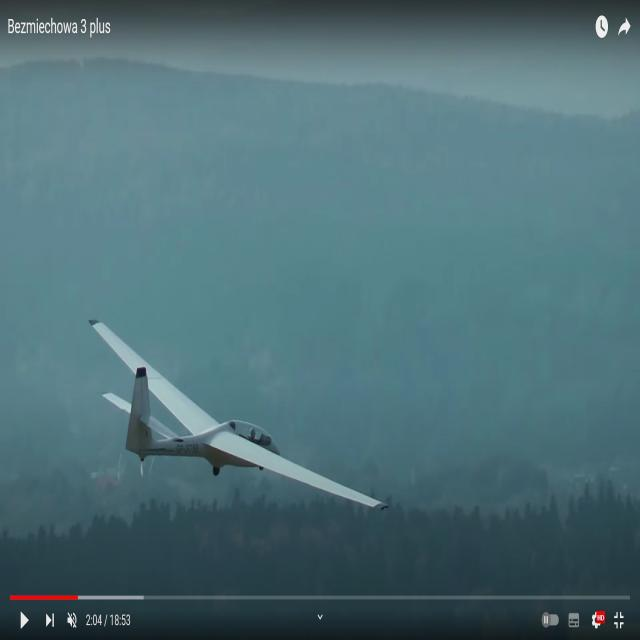iha: (90, 321, 388, 517)
